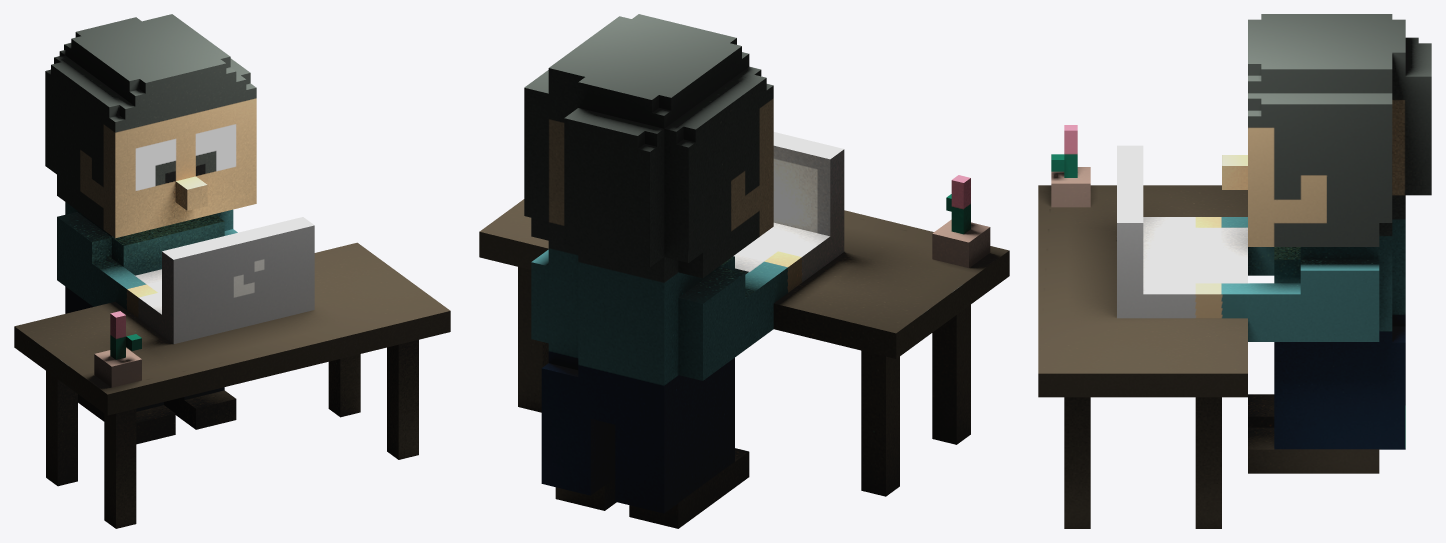
File: developer-latest.glb
3 renders of one model, left to right at view 1: azimuth 30°, elevation 25°; view 2: azimuth 150°, elevation 25°; view 3: azimuth 270°, elevation 25°, orthographic. The views are drawn at different scales.
Parts seen in each view (by area): view 1: developer; view 2: developer; view 3: developer.
Part boxes in pixels (x1=…): developer: x1=14, y1=14, x2=450, y2=528; developer: x1=479, y1=14, x2=1009, y2=528; developer: x1=1038, y1=14, x2=1431, y2=528.
Size of what is drawn, in the model's own units: 3.4 by 3.4 by 3.
1 material, 1 textured.
